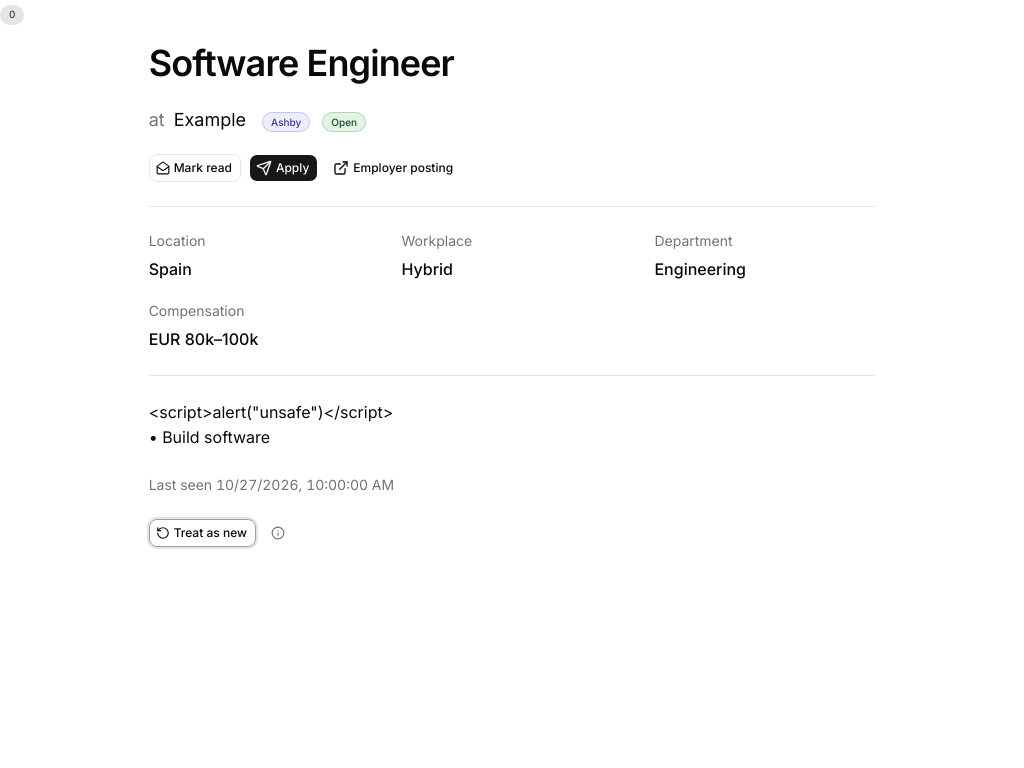
renders descriptions as inert text and requires confirmation before correcting identity
Expected: the heading "Software Engineer" is shown, [149, 40, 454, 84]
Expected: the text "<script>alert(\"unsafe\")</script> • Build software" is shown, [149, 402, 393, 447]
Press Enter
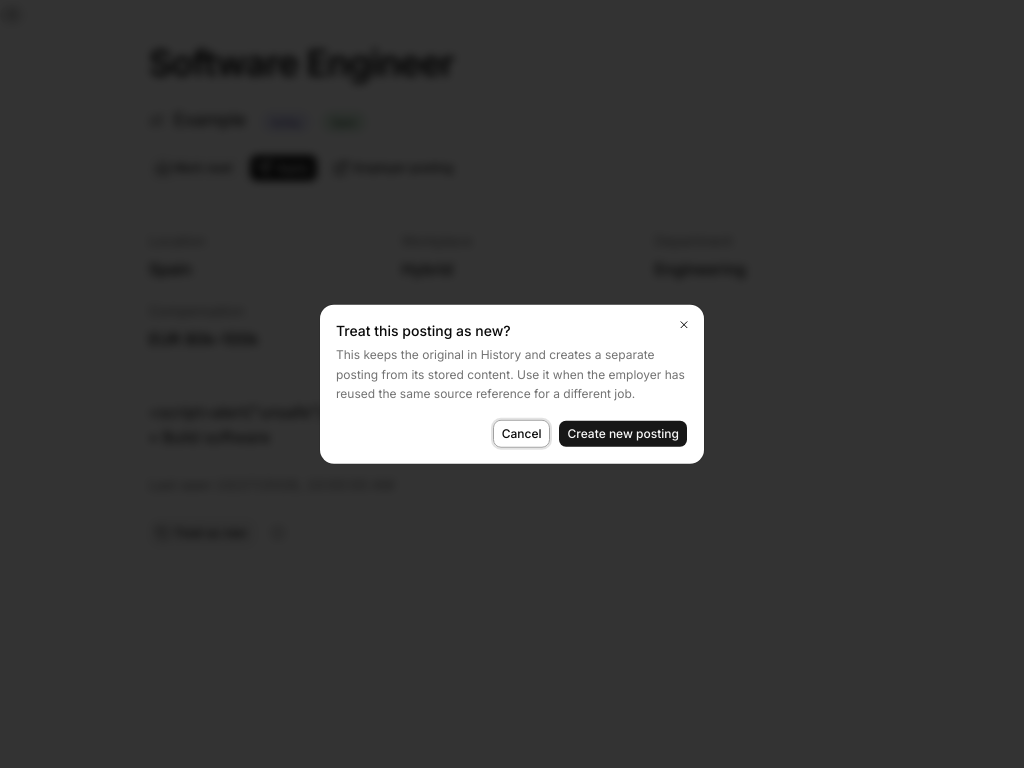
Now the dialog "Treat this posting as new?" is shown, box [320, 305, 704, 463]
Press Escape
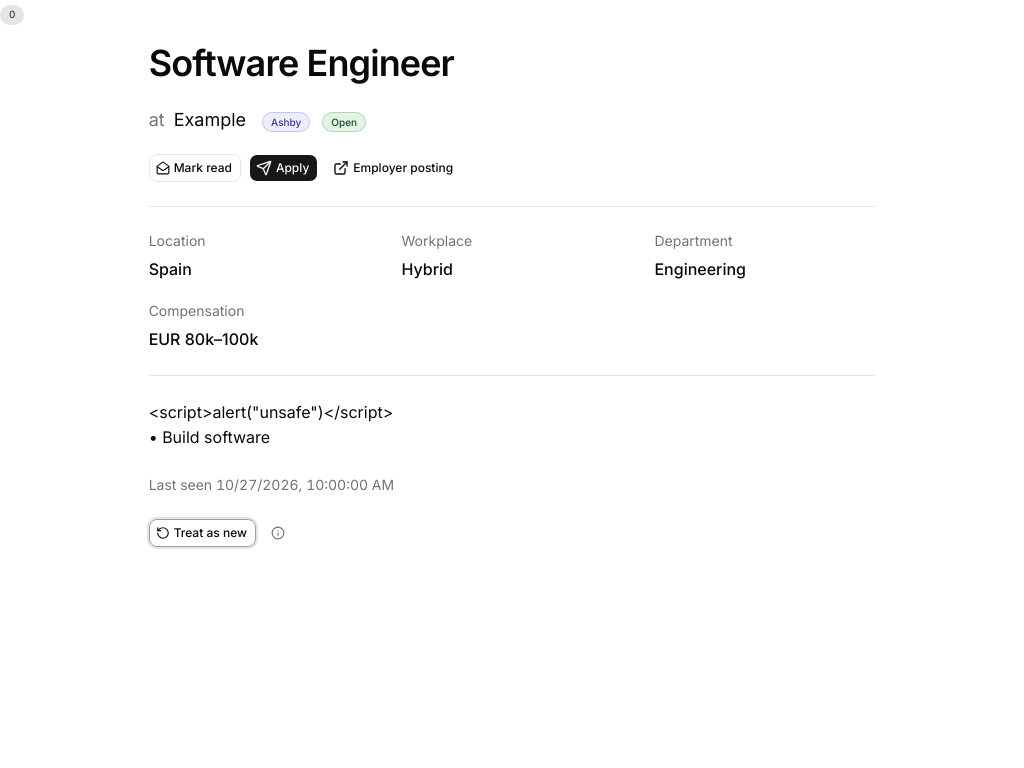
Click the button "Treat as new" at (202, 533), box [149, 519, 256, 547]
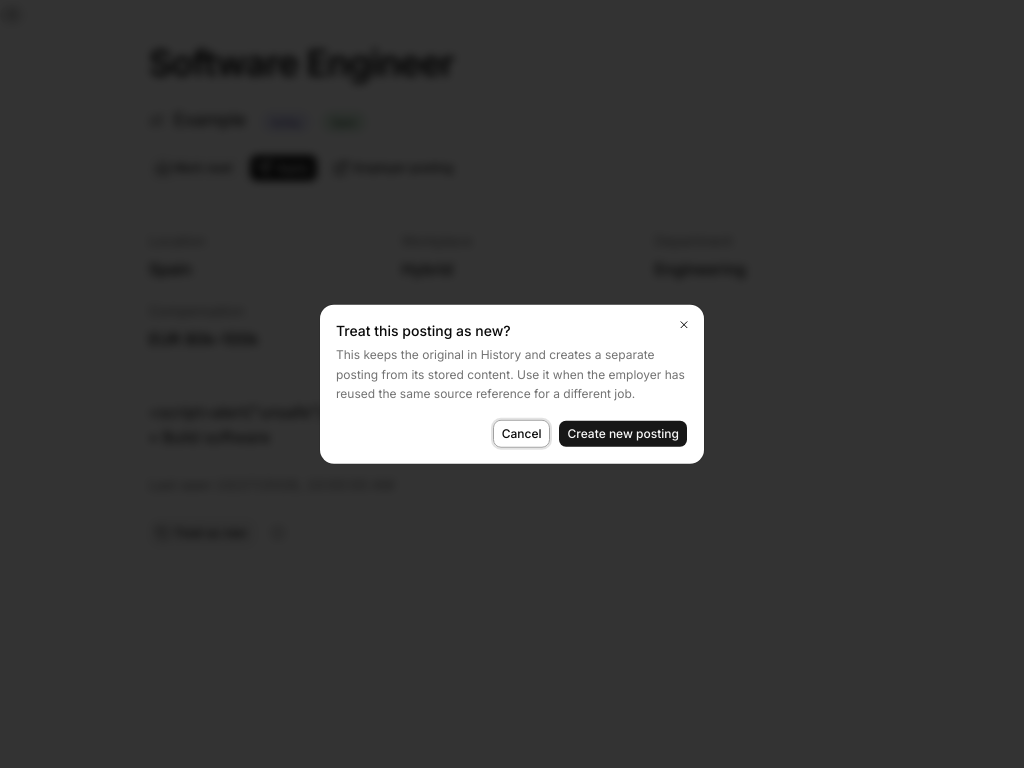
Click the button "Create new posting" at (623, 433), box [558, 419, 688, 447]
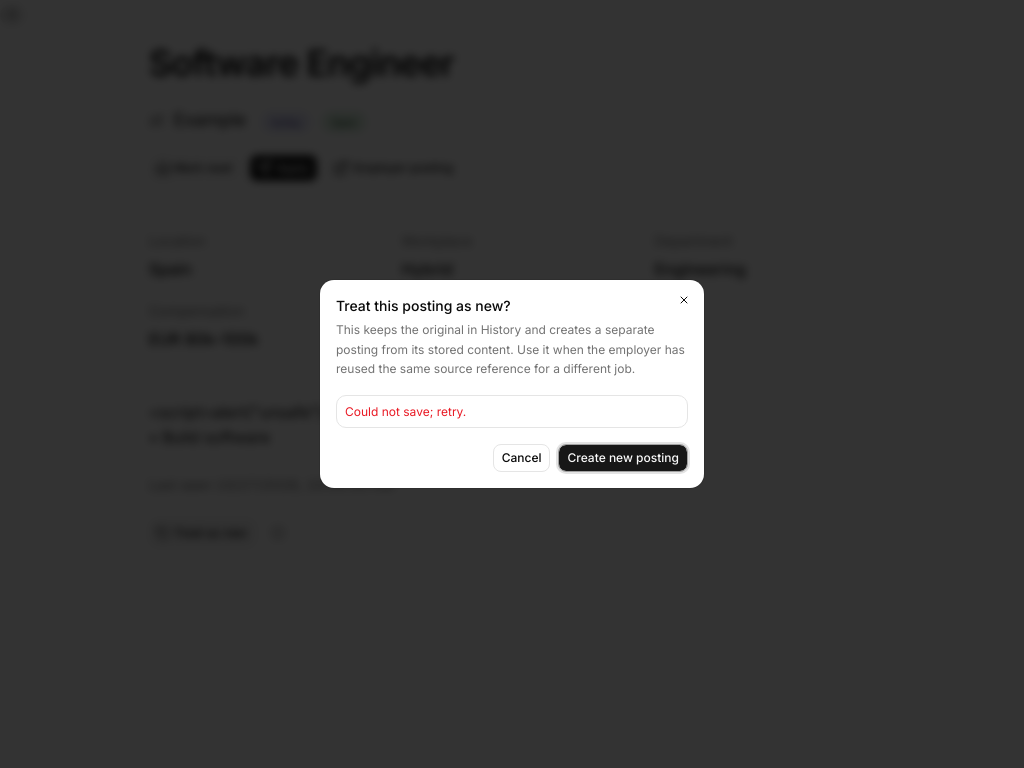
Now the dialog is shown, box [320, 280, 704, 488]
Now the text "Could not save; retry." is shown, box [345, 404, 466, 418]
Click the button "Create new posting" at (623, 458), box [558, 444, 688, 472]
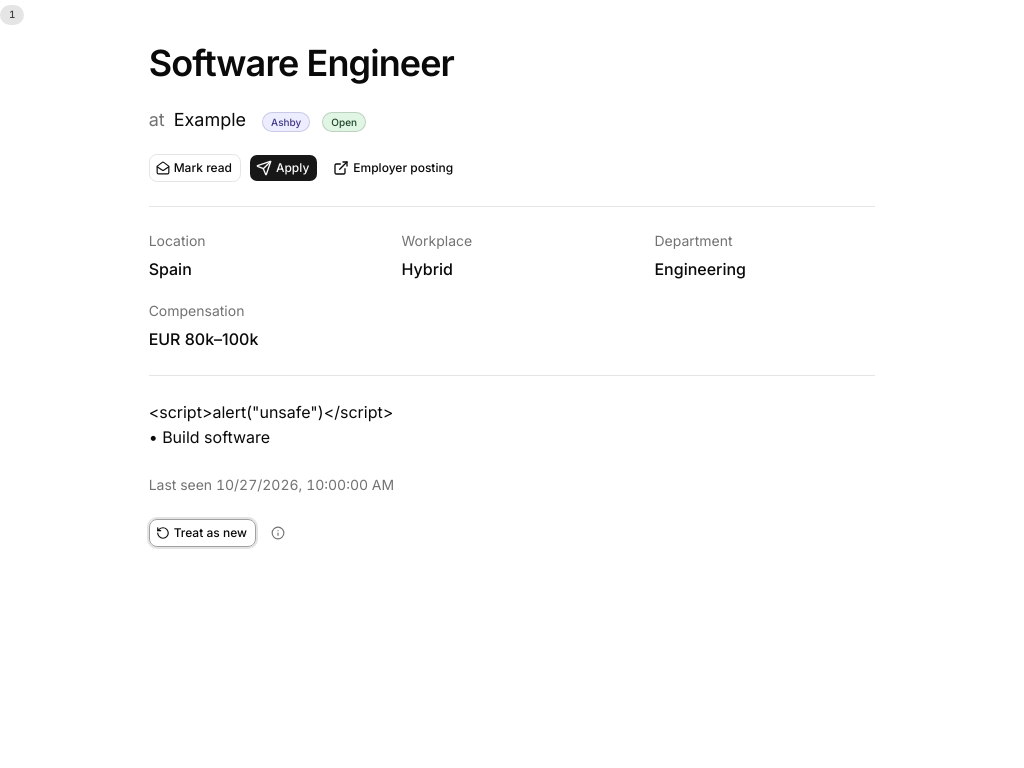
Now the icon named "1 unread job" is shown, box [0, 4, 24, 24]
